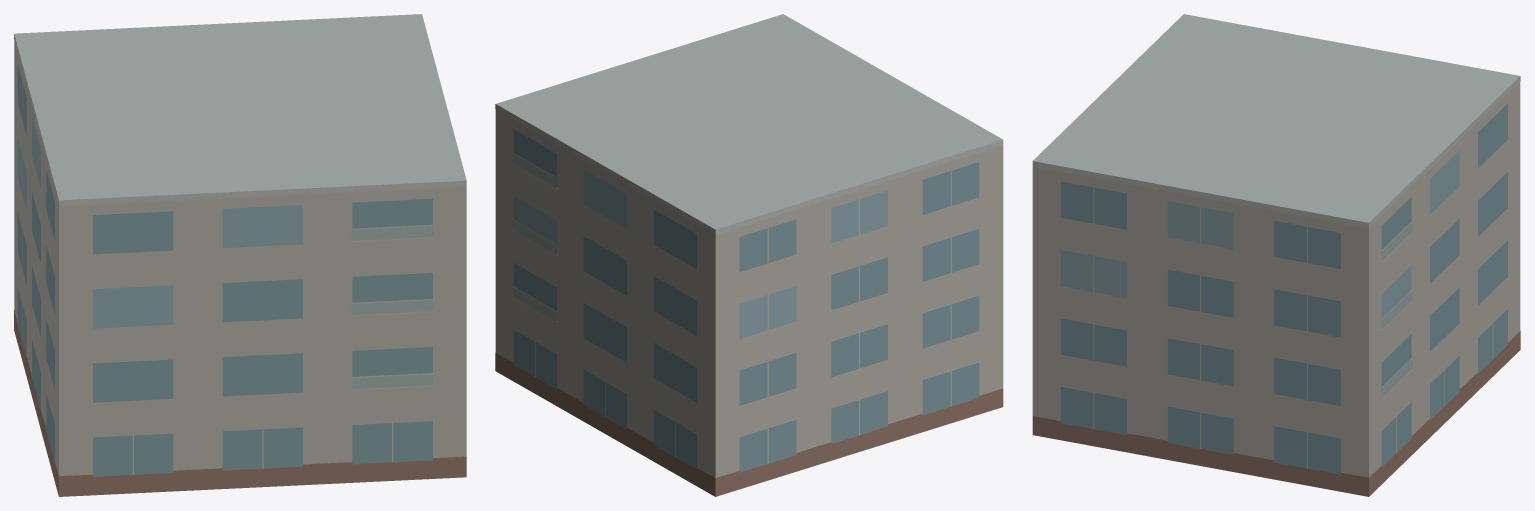
Rendered from residential-dafb93b7-5f18-46ea-9a33-0c331dc04749.glb.
The picture shows the model from 3 angles, left to right: view 1: azimuth 30°, elevation 25°; view 2: azimuth 150°, elevation 25°; view 3: azimuth 270°, elevation 25°; orthographic projection. The views are drawn at different scales.
Parts seen in each view (by area): view 1: residential-dafb93b7-5f18-46ea-9a33-0c331dc04749.tmp; view 2: residential-dafb93b7-5f18-46ea-9a33-0c331dc04749.tmp; view 3: residential-dafb93b7-5f18-46ea-9a33-0c331dc04749.tmp.
Part boxes in pixels (bbox=[...]): residential-dafb93b7-5f18-46ea-9a33-0c331dc04749.tmp: bbox=[14, 14, 466, 496]; residential-dafb93b7-5f18-46ea-9a33-0c331dc04749.tmp: bbox=[495, 14, 1003, 496]; residential-dafb93b7-5f18-46ea-9a33-0c331dc04749.tmp: bbox=[1032, 14, 1520, 496].
Size of the model in its own units: 19.95 by 12.2 by 19.69.
